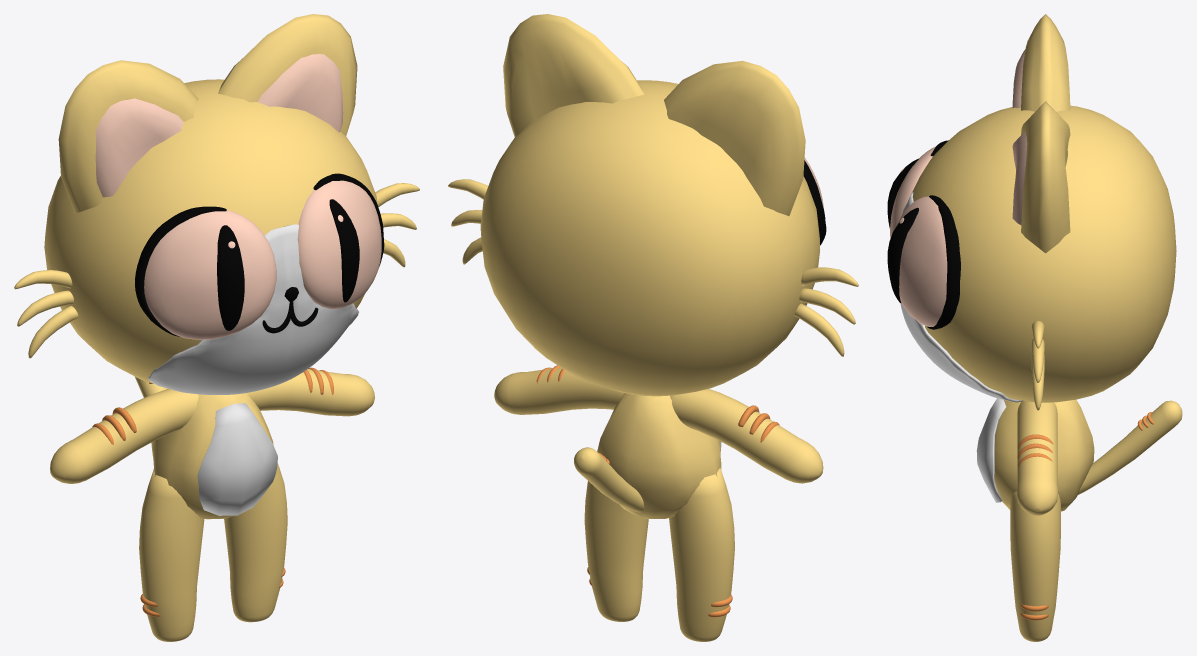
The model's file is RiggingTest_v3.fbx.
3 renders of one model, left to right at view 1: azimuth 30°, elevation 25°; view 2: azimuth 150°, elevation 25°; view 3: azimuth 270°, elevation 25°, orthographic. The views are drawn at different scales.
Parts seen in each view (by area): view 1: Model; view 2: Model; view 3: Model.
Part boxes in pixels (x1,y1,x2,y2): Model: (14, 14, 419, 641); Model: (448, 14, 858, 641); Model: (887, 14, 1182, 641).
Size of the model in its own units: 159 by 218 by 106.
